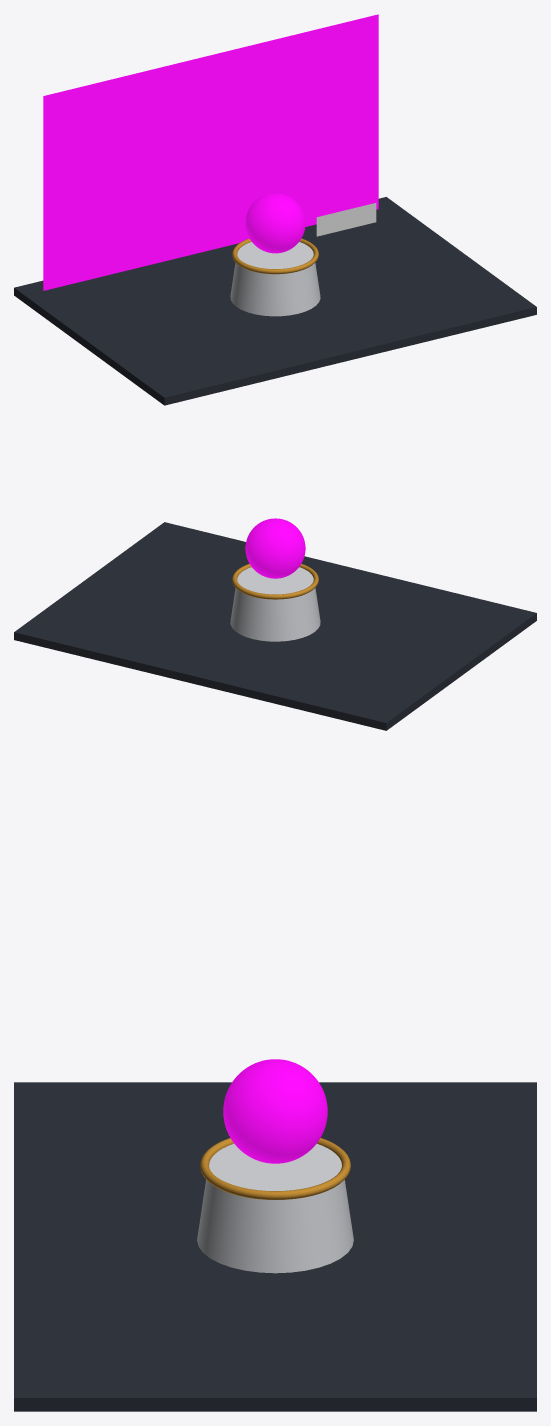
The model's file is shader-kiosk.33a5298b.glb.
The picture shows the model from 3 angles, top to bottom: view 1: azimuth 30°, elevation 25°; view 2: azimuth 150°, elevation 25°; view 3: azimuth 270°, elevation 25°; orthographic projection. The views are drawn at different scales.
Visible parts, largest first — view 1: backdrop, floor, plinth, orb, sign, ring; view 2: floor, plinth, orb, ring; view 3: floor, plinth, orb, ring.
Part boxes in pixels (<box>): backdrop: <box>43,14,378,290</box>; floor: <box>14,197,536,405</box>; plinth: <box>230,242,320,316</box>; orb: <box>245,193,305,253</box>; sign: <box>316,203,376,236</box>; ring: <box>232,238,318,274</box>; floor: <box>14,522,536,730</box>; plinth: <box>230,567,320,641</box>; orb: <box>245,518,305,578</box>; ring: <box>232,564,318,599</box>; floor: <box>14,1082,536,1411</box>; plinth: <box>197,1143,353,1273</box>; orb: <box>223,1059,327,1163</box>; ring: <box>200,1138,350,1199</box>.
Bounding box in the file's own units: 10 × 5.2 × 7.
